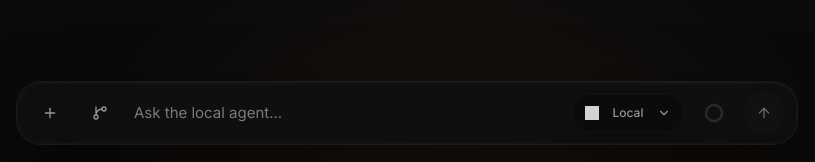
Test: InputDock › offers Browser as an @ autocomplete target without existing tabs
The image size is (815, 162).
In the text box with placeholder "Ask the local agent...": (346, 113) x1=130 y1=93 x2=562 y2=133, type "Use @Bro"
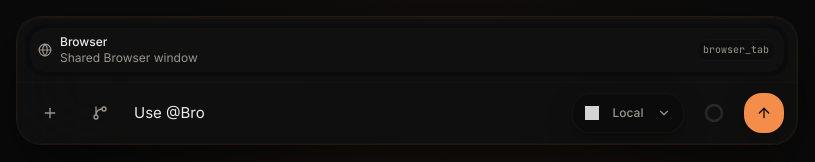
Check: the text "Browser" is shown, box x1=60 y1=34 x2=108 y2=49
Check: the text "Shared Browser window" is shown, box x1=60 y1=50 x2=198 y2=65
